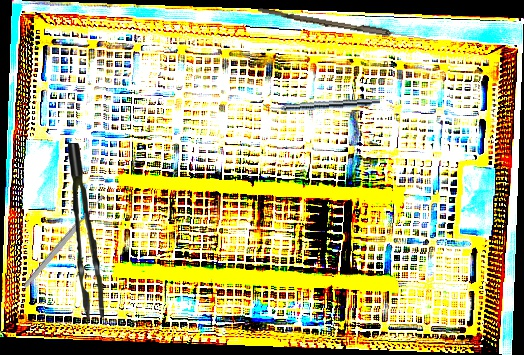Handpiece: (262, 94, 381, 115)
Surgical Spoon: (21, 193, 107, 290), (257, 7, 438, 45)
Tissue Forceps: (68, 143, 104, 319)
